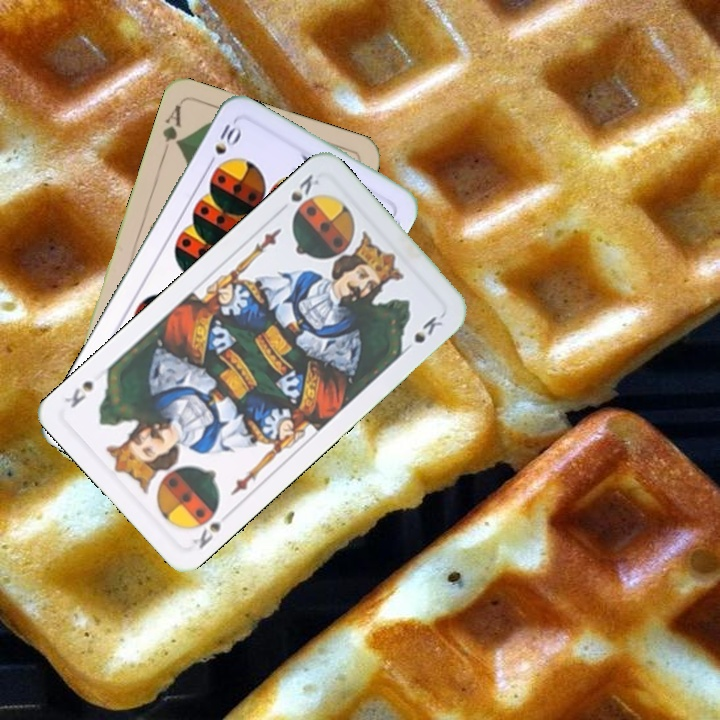GA: (158, 100, 185, 159)
S10: (203, 117, 244, 171)
SK: (189, 506, 235, 552), (286, 170, 322, 205)
